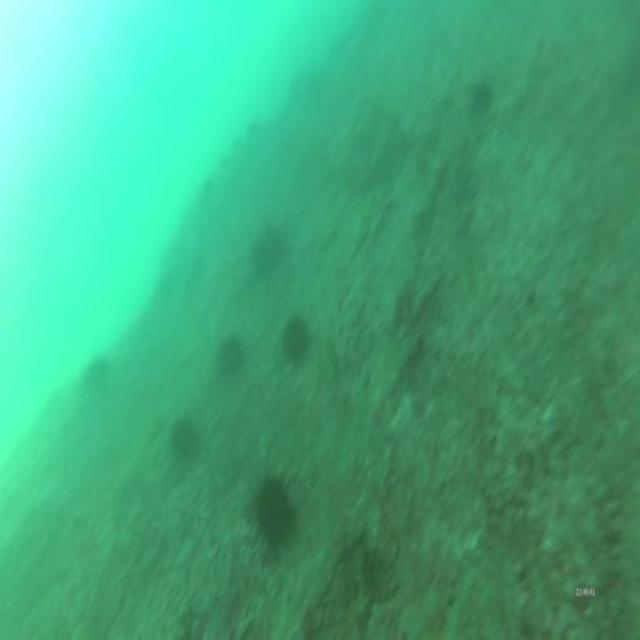echinus: (244, 466, 302, 561), (278, 314, 316, 370), (167, 411, 202, 468), (248, 226, 284, 281), (213, 330, 246, 380), (466, 78, 496, 124), (80, 354, 109, 393)
